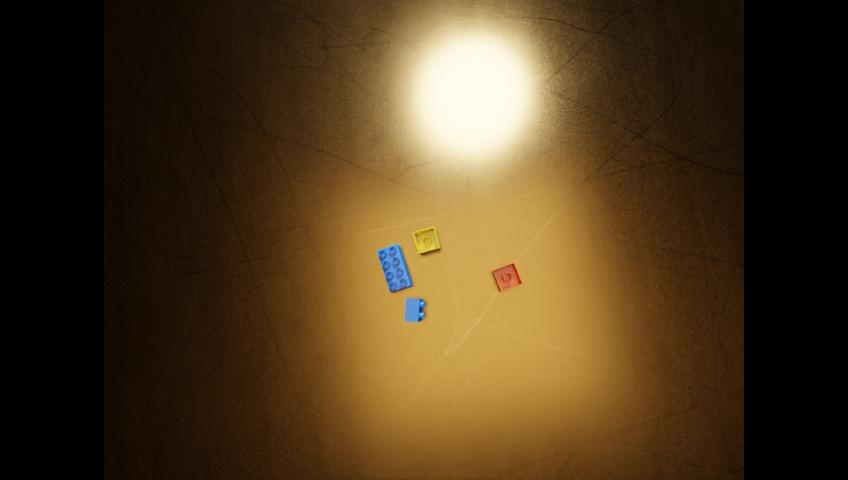2x2_blue: (404, 298, 424, 321)
2x2_orange: (492, 263, 521, 291)
2x2_yellow: (413, 226, 439, 253)
4x2_blue: (377, 243, 411, 292)
